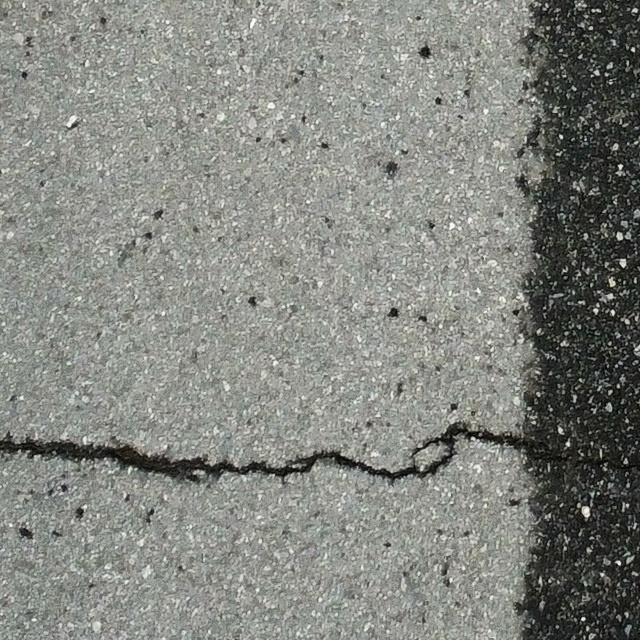TransverseCrack: (1, 423, 638, 484)
